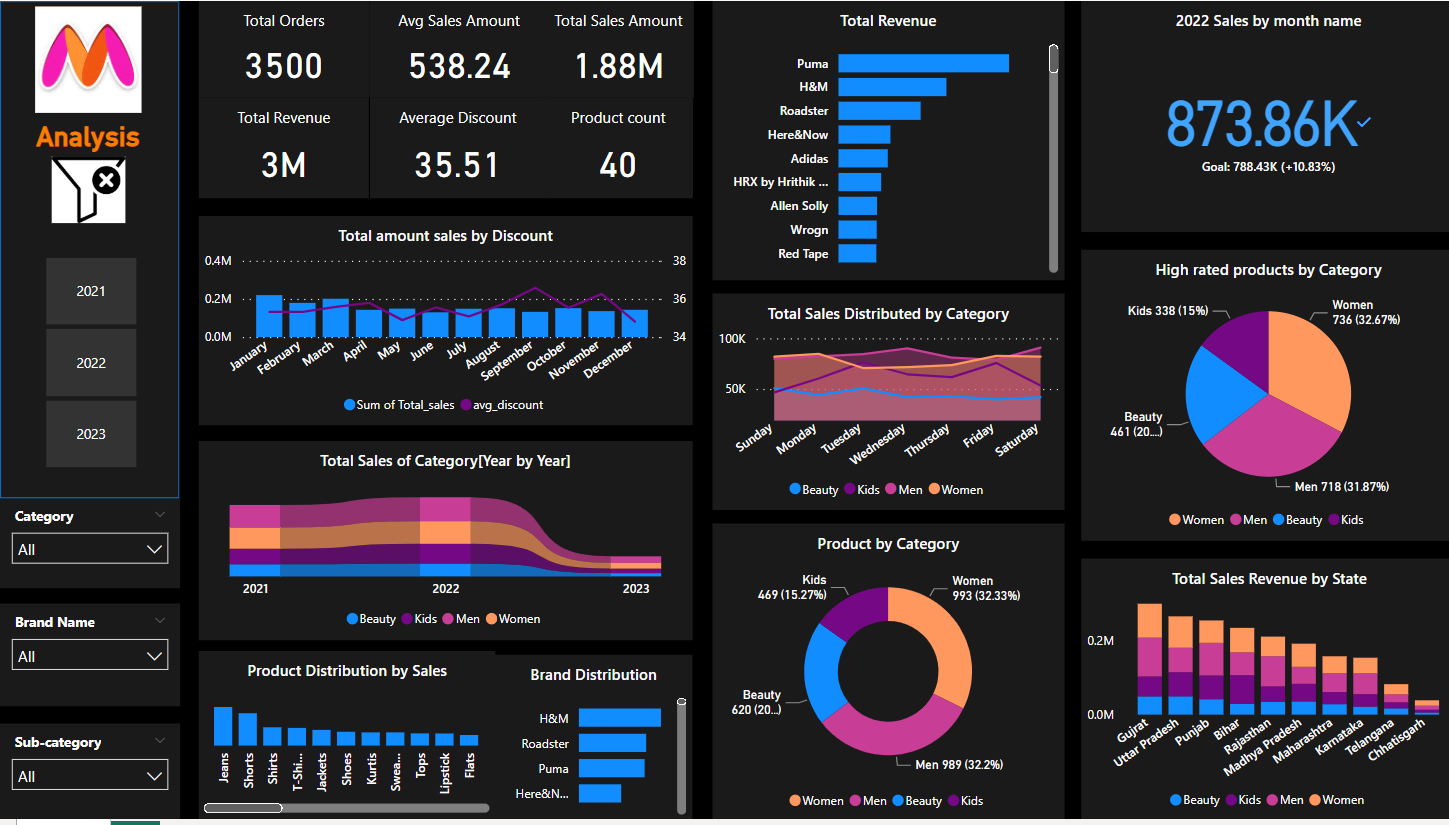

The page's visual inventory and layout, read from the dashboard file:
{"tool":"powerbi","page":{"name":"Page 1","canvas":[1280,720],"ordinal":0},"visuals":[{"type":"card","title":"Total Orders","fields":{"Values":["fact_orders.total_orders"]},"box":[175,0,150,85],"z":0},{"type":"card","title":"Avg Sales Amount","fields":{"Values":["fact_orders.avg_sales_amt"]},"box":[325,0,156.7,85],"z":1000},{"type":"card","title":"Total Sales Amount","fields":{"Values":["fact_orders.Total_sales"]},"box":[478.3,0,131.7,85],"z":2000},{"type":"card","title":"Total Revenue","fields":{"Values":["fact_orders.Total_revenue"]},"box":[174.9,84.3,149.9,89],"z":3000},{"type":"card","title":"Average Discount","fields":{"Values":["fact_orders.avg_discount"]},"box":[324.9,84.3,154.6,89],"z":4000},{"type":"card","title":"Product count","fields":{"Values":["fact_orders.Product_count"]},"box":[477.9,84.3,131.2,89],"z":5000},{"type":"slicer","fields":{"Values":["dim_products.Category"]},"box":[0,436.7,158.3,80],"z":6000},{"type":"slicer","fields":{"Values":["dim_products.Sub-category"]},"box":[0,635,158.3,85],"z":7000},{"type":"slicer","fields":{"Values":["dim_products.Brand Name"]},"box":[0,530,158.3,90],"z":8000},{"type":"lineStackedColumnComboChart","title":"Total amount sales by Discount","fields":{"Category":["date_table.Month_name"],"Y2":["fact_orders.avg_discount"],"Y":["fact_orders.Total_sales"]},"box":[174.9,189,434.2,184.3],"z":9000},{"type":"barChart","title":"Total Revenue","fields":{"Y":["fact_orders.Total_sales"],"Category":["dim_products.Brand Name"]},"box":[626.3,0,309.2,245.2],"z":10000},{"type":"barChart","title":"Brand Distribution","fields":{"Category":["dim_products.Brand Name"],"Y":["dim_products.Brand Name"]},"box":[435.7,574.8,173.4,146.8],"z":11000},{"type":"columnChart","title":"Product Distribution by Sales","fields":{"Category":["dim_products.Product Name"],"Y":["dim_products.Product Name"]},"box":[174.9,571.6,260.8,148.4],"z":12000},{"type":"columnChart","title":"Total Sales Revenue by State","fields":{"Series":["dim_products.Category"],"Category":["dim_customers.State"],"Y":["fact_orders.Total_sales"]},"box":[951.1,490.4,331.1,231.1],"z":13000},{"type":"ribbonChart","title":"Total Sales of Category[Year by Year]","fields":{"Category":["date_table.Date.Variation.Date Hierarchy.Year","date_table.Date.Variation.Date Hierarchy.Quarter","date_table.Date.Variation.Date Hierarchy.Month","date_table.Date.Variation.Date Hierarchy.Day"],"Series":["dim_products.Category"],"Y":["fact_orders.Total_sales"]},"box":[174.9,387.3,434.2,174.9],"z":14000},{"type":"donutChart","title":"Product by Category","fields":{"Category":["dim_products.Category"],"Y":["dim_products.Product Name"]},"box":[626.3,459.2,309.2,262.4],"z":15000},{"type":"kpi","title":"2022 Sales by month name","fields":{"TrendLine":["date_table.Month_name"],"Goal":["date_table.sales_2021"],"Indicator":["fact_orders.sales_2022"]},"box":[951.1,0,329.5,203],"z":16000},{"type":"pieChart","title":"High rated products by Category","fields":{"Category":["dim_products.Category"],"Y":["dim_products.High_rated_products"]},"box":[951.1,218.7,329.5,256.1],"z":17000},{"type":"shape","box":[0,0,157.7,437.3],"z":18000},{"type":"image","box":[25,0,104.6,103.1],"z":19000},{"type":"textbox","box":[14.1,100,131.2,42.2],"z":20000},{"type":"image","box":[40.6,129.6,75,73.4],"z":21000},{"type":"slicer","fields":{"Values":["date_table.Years"]},"box":[14.1,218.7,129.6,198.4],"z":22000},{"type":"areaChart","title":"Total Sales Distributed by Category","fields":{"Category":["date_table.Days of week"],"Y":["fact_orders.Total_sales"],"Series":["dim_products.Category"]},"box":[626.3,257.7,309.2,190.5],"z":23000}]}

Visuals, with their boxes on the page's 1280x720 design canvas (x1, y1, x2, y2). These are canvas units, not pixel positions in the 1449x825 screenshot, which may show the page scaled, cropped or inside an application window:
"Total Orders" card: 175,0,325,85
"Avg Sales Amount" card: 325,0,482,85
"Total Sales Amount" card: 478,0,610,85
"Total Revenue" card: 175,84,325,173
"Average Discount" card: 325,84,480,173
"Product count" card: 478,84,609,173
slicer - dim_products.Category: 0,437,158,517
slicer - dim_products.Sub-category: 0,635,158,720
slicer - dim_products.Brand Name: 0,530,158,620
"Total amount sales by Discount" lineStackedColumnComboChart: 175,189,609,373
"Total Revenue" barChart: 626,0,936,245
"Brand Distribution" barChart: 436,575,609,722
"Product Distribution by Sales" columnChart: 175,572,436,720
"Total Sales Revenue by State" columnChart: 951,490,1282,722
"Total Sales of Category[Year by Year]" ribbonChart: 175,387,609,562
"Product by Category" donutChart: 626,459,936,722
"2022 Sales by month name" kpi: 951,0,1281,203
"High rated products by Category" pieChart: 951,219,1281,475
shape: 0,0,158,437
image: 25,0,130,103
textbox: 14,100,145,142
image: 41,130,116,203
slicer - date_table.Years: 14,219,144,417
"Total Sales Distributed by Category" areaChart: 626,258,936,448
